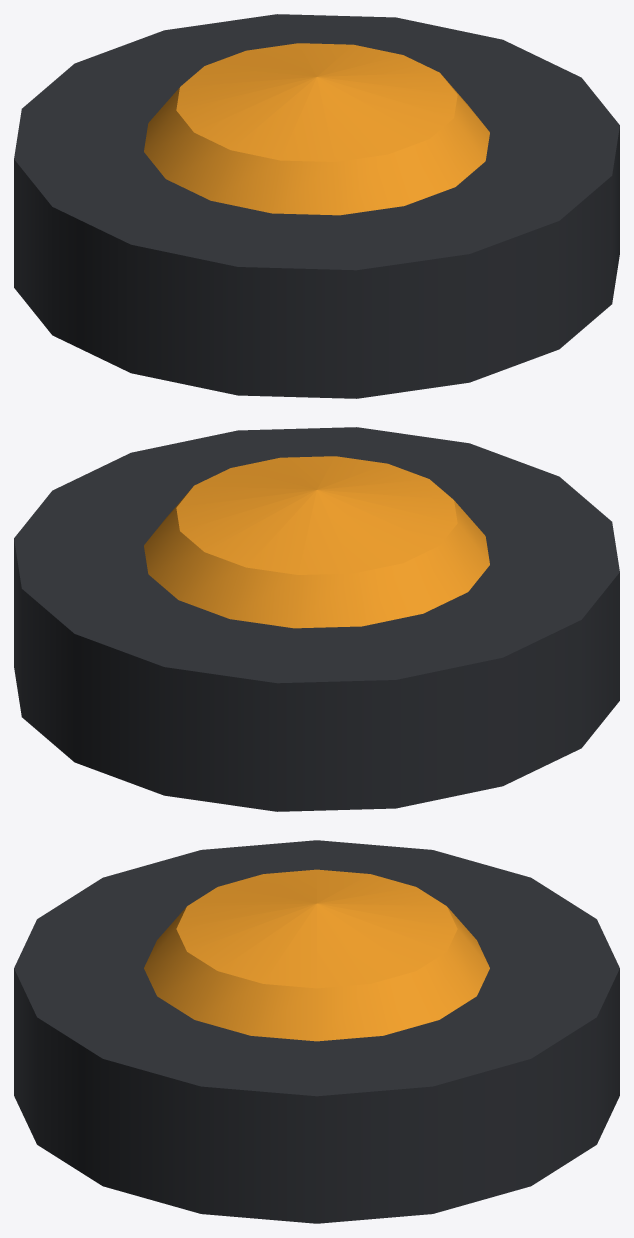
File: ec2_beacon.obj
The picture shows the model from 3 angles, top to bottom: view 1: azimuth 30°, elevation 25°; view 2: azimuth 150°, elevation 25°; view 3: azimuth 270°, elevation 25°; orthographic projection.
Visible parts, largest first — view 1: ec2_beacon; view 2: ec2_beacon; view 3: ec2_beacon.
Part boxes in pixels (x1,y1,x2,y2): ec2_beacon: (14,14,619,398); ec2_beacon: (14,427,619,811); ec2_beacon: (14,840,619,1223).
Size of the model in its own units: 0.28 by 0.098 by 0.28.
